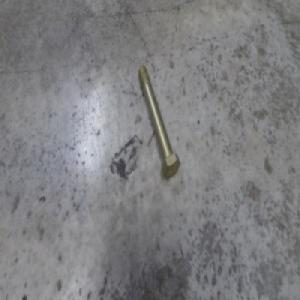Bolt: (139, 59, 180, 180)
